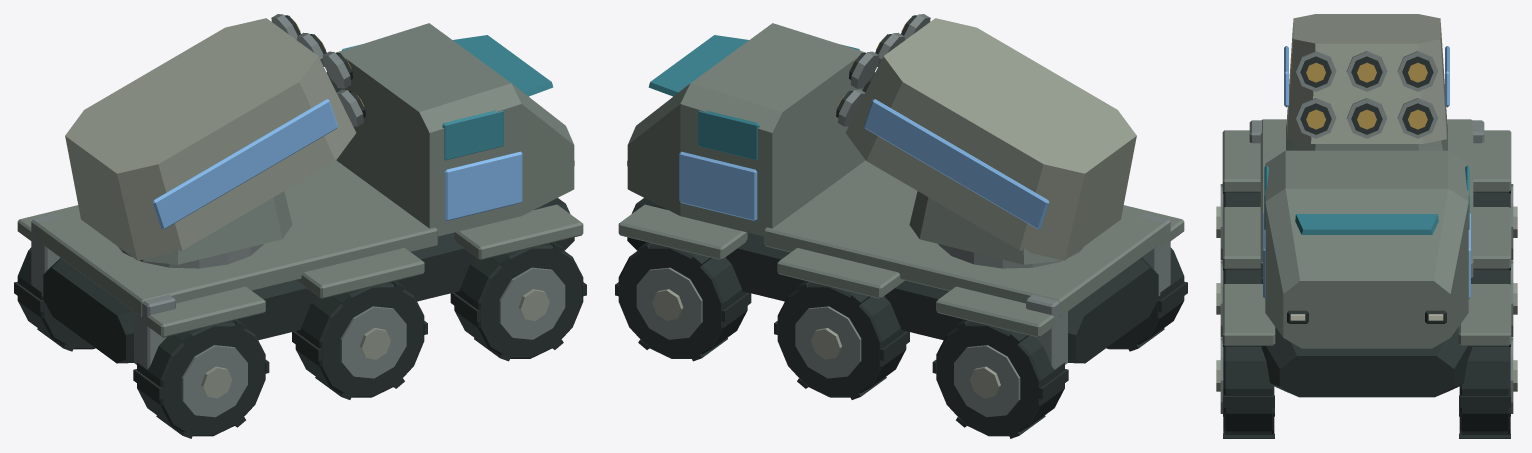
Rendered from lancer.glb.
The picture shows the model from 3 angles, left to right: view 1: azimuth 30°, elevation 25°; view 2: azimuth 150°, elevation 25°; view 3: azimuth 270°, elevation 25°; orthographic projection.
Visible parts, largest first — view 1: Hull, Turret; view 2: Hull, Turret; view 3: Hull, Turret.
Part boxes in pixels (x1=…): Hull: x1=14, y1=23, x2=586, y2=438; Turret: x1=65, y1=14, x2=365, y2=268; Hull: x1=615, y1=23, x2=1187, y2=438; Turret: x1=836, y1=14, x2=1136, y2=268; Hull: x1=1216, y1=119, x2=1517, y2=438; Turret: x1=1284, y1=14, x2=1449, y2=150.
Bounding box in the file's own units: 2.85 × 1.87 × 1.66.
